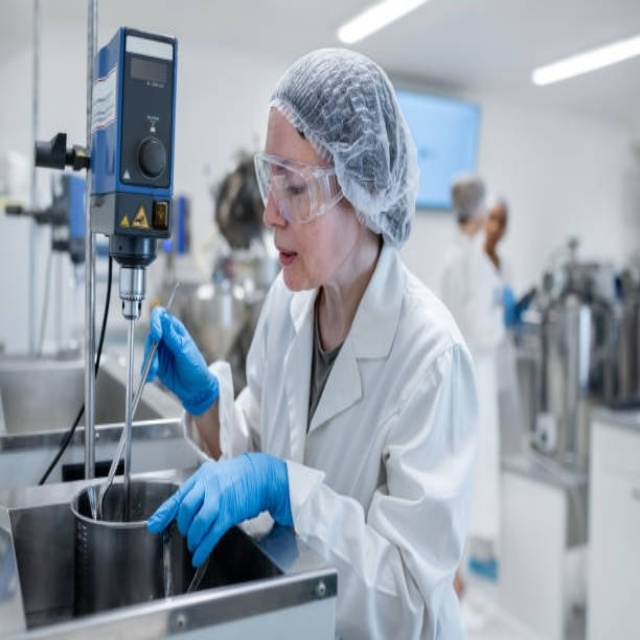Gafas: (251, 146, 338, 227)
Guantes: (145, 453, 296, 573), (136, 304, 223, 413)
Sin_mascara: (271, 223, 319, 293)
